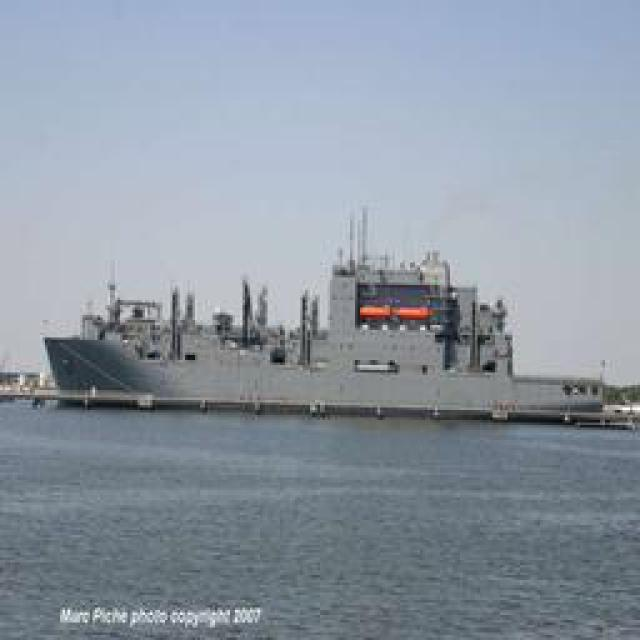Ship: (31, 225, 621, 420)
